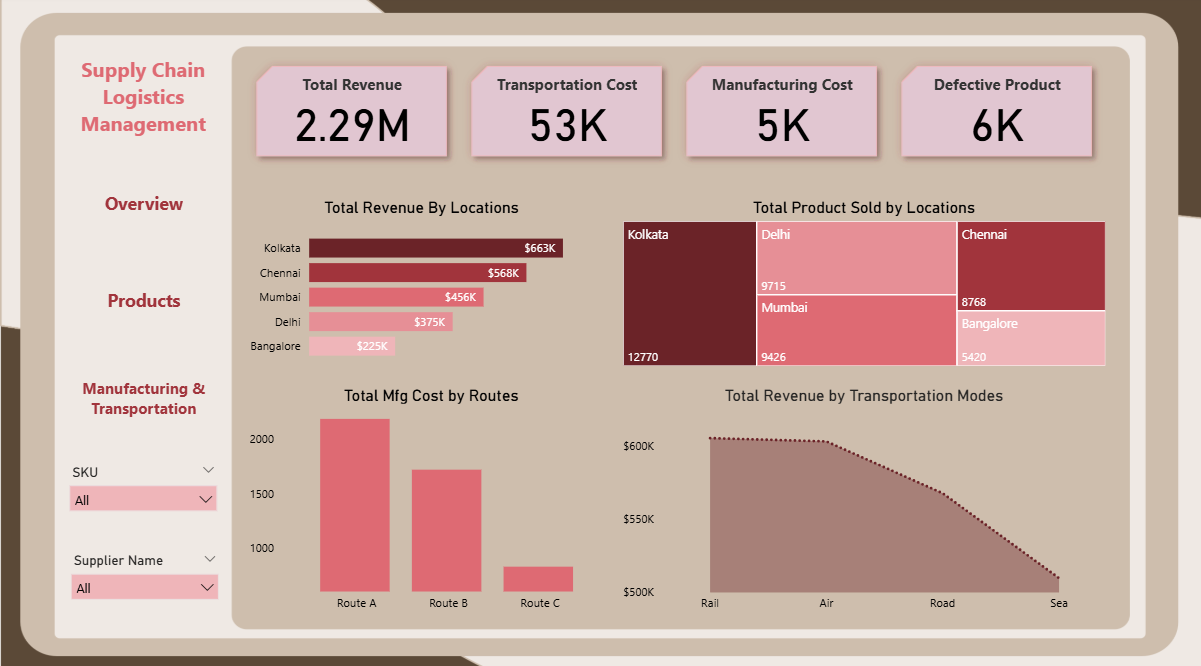

The page's visual inventory and layout, read from the dashboard file:
{"tool":"powerbi","page":{"name":"   Manufacturing & Transportation","canvas":[1280,720],"ordinal":2},"visuals":[{"type":"cardVisual","fields":{"Data":["Measure.Total Revenue","Measure.transportation cost","Measure.Mfg cost","Measure.Defective Product"]},"box":[254.5,58.9,922.6,130.4],"z":0},{"type":"clusteredBarChart","title":"Total Revenue By Locations","fields":{"Y":["Measure.Total Revenue"],"Category":["supply_chain_data.Locations"]},"box":[254.5,216.3,384.9,182.9],"z":1000},{"type":"treemap","title":"Total Product Sold by Locations","fields":{"Group":["supply_chain_data.Locations"],"Values":["Measure.Total Product Sold"]},"box":[655.3,216.3,521.7,182.9],"z":2000},{"type":"columnChart","title":"Total Mfg Cost by Routes","fields":{"Y":["Measure.Mfg cost"],"Category":["supply_chain_data.Routes"]},"box":[254.5,415.1,396.1,248.1],"z":3000},{"type":"stackedAreaChart","title":"Total Revenue by Transportation Modes","fields":{"Category":["supply_chain_data.Transportation_modes"],"Y":["Measure.Total Revenue"]},"box":[655.3,415.1,521.7,248.1],"z":4000},{"type":"pageNavigator","box":[77.9,175,149.5,300.6],"z":5000,"group":"g1"},{"type":"slicer","fields":{"Values":["stock level.SKU"]},"box":[63.6,493.1,176.6,77.9],"z":6000,"group":"g1"},{"type":"slicer","fields":{"Values":["supply_chain_data.Supplier_name"]},"box":[65.2,587,176.6,76.3],"z":7000,"group":"g1"},{"type":"textbox","box":[70,58.9,163.8,98.6],"z":8000,"group":"g1"},{"type":"group","id":"g1","title":"Group 1","box":[63.6,58.9,178.1,604.4],"z":8001}]}

Visuals, with their boxes in screenshot pixels (x1, y1, x2, y2), scaled from the page's 1280x720 canvas onto the 1201x666 screenshot:
cardVisual - Measure.Total Revenue x Measure.transportation cost: (x1=239, y1=54, x2=1104, y2=175)
"Total Revenue By Locations" clusteredBarChart: (x1=239, y1=200, x2=600, y2=369)
"Total Product Sold by Locations" treemap: (x1=615, y1=200, x2=1104, y2=369)
"Total Mfg Cost by Routes" columnChart: (x1=239, y1=384, x2=610, y2=613)
"Total Revenue by Transportation Modes" stackedAreaChart: (x1=615, y1=384, x2=1104, y2=613)
pageNavigator: (x1=73, y1=162, x2=213, y2=440)
slicer - stock level.SKU: (x1=60, y1=456, x2=225, y2=528)
slicer - supply_chain_data.Supplier_name: (x1=61, y1=543, x2=227, y2=614)
textbox: (x1=66, y1=54, x2=219, y2=146)
"Group 1" group: (x1=60, y1=54, x2=227, y2=614)
